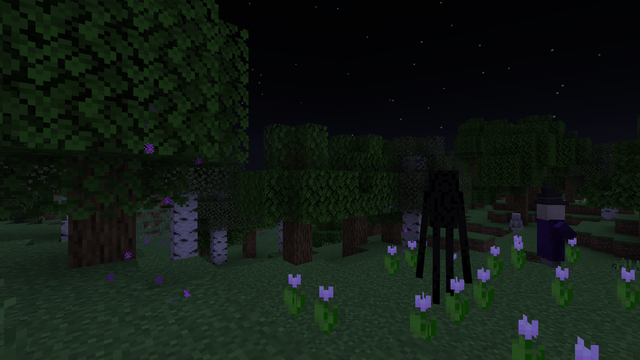endermens: (422, 165, 463, 313)
sorcieres: (535, 200, 564, 269)
squelettes: (510, 213, 521, 240)
